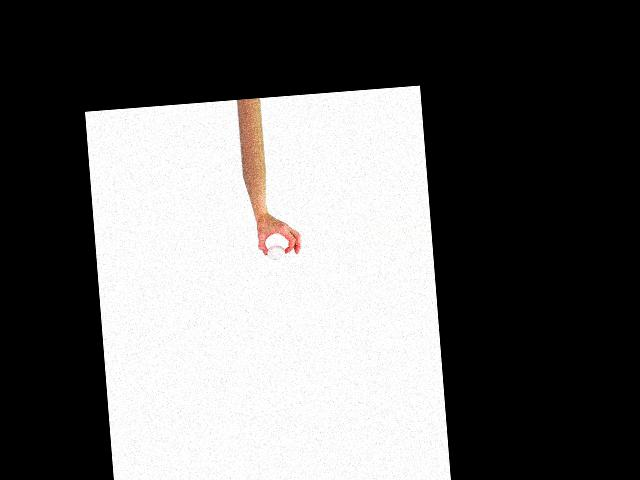egg: (266, 244, 285, 260)
